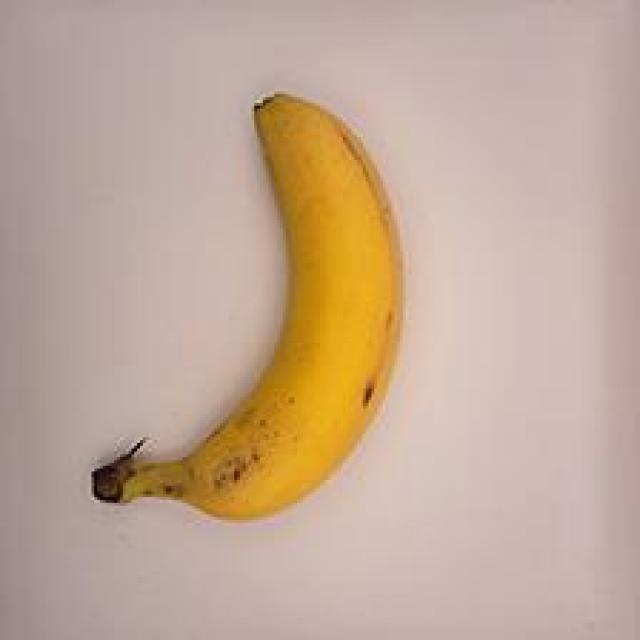ripe: (80, 63, 422, 567)
